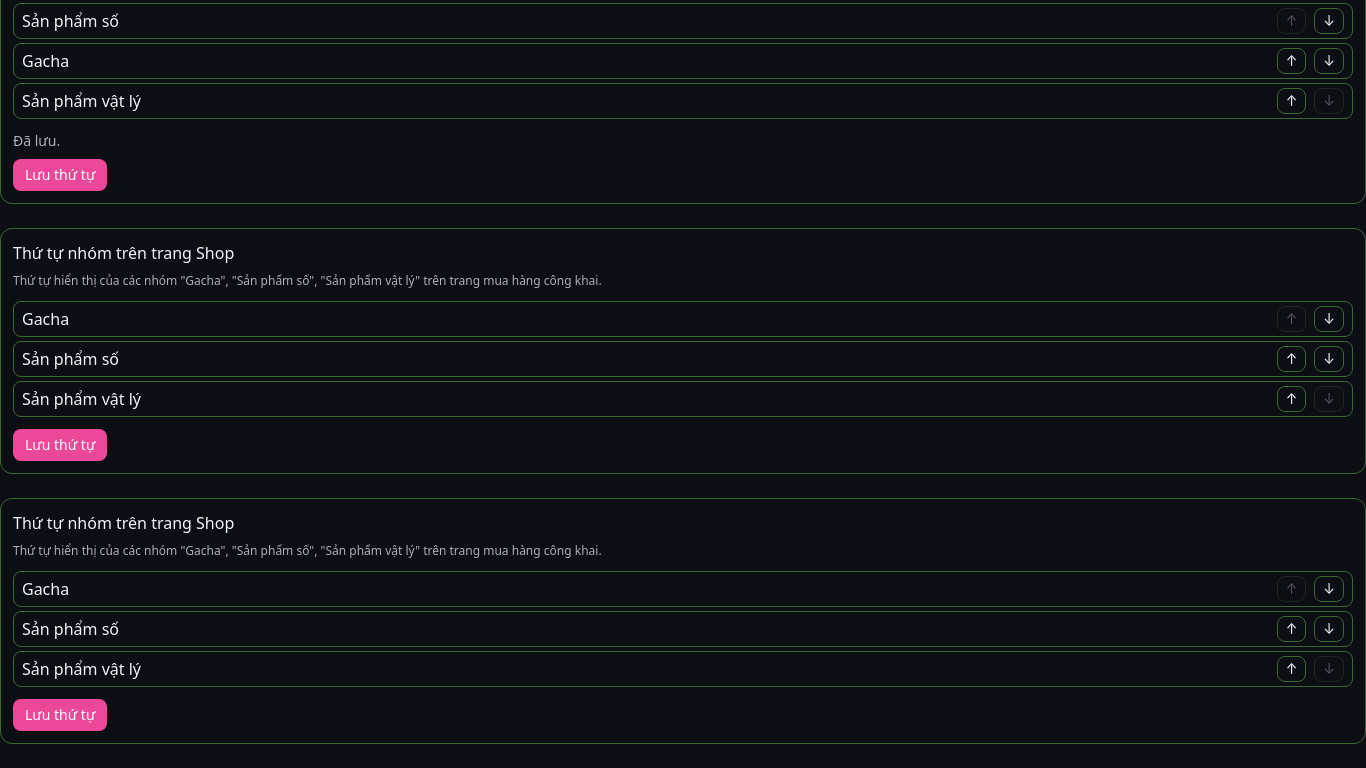
Test case: AdminShopGroupOrder › shows an error message when saving fails
The width and height of the screenshot is (1366, 768).
(page scrolled)
Click the 3rd button "Lưu thứ tự" at coordinates (60, 715), box [13,699,107,731]
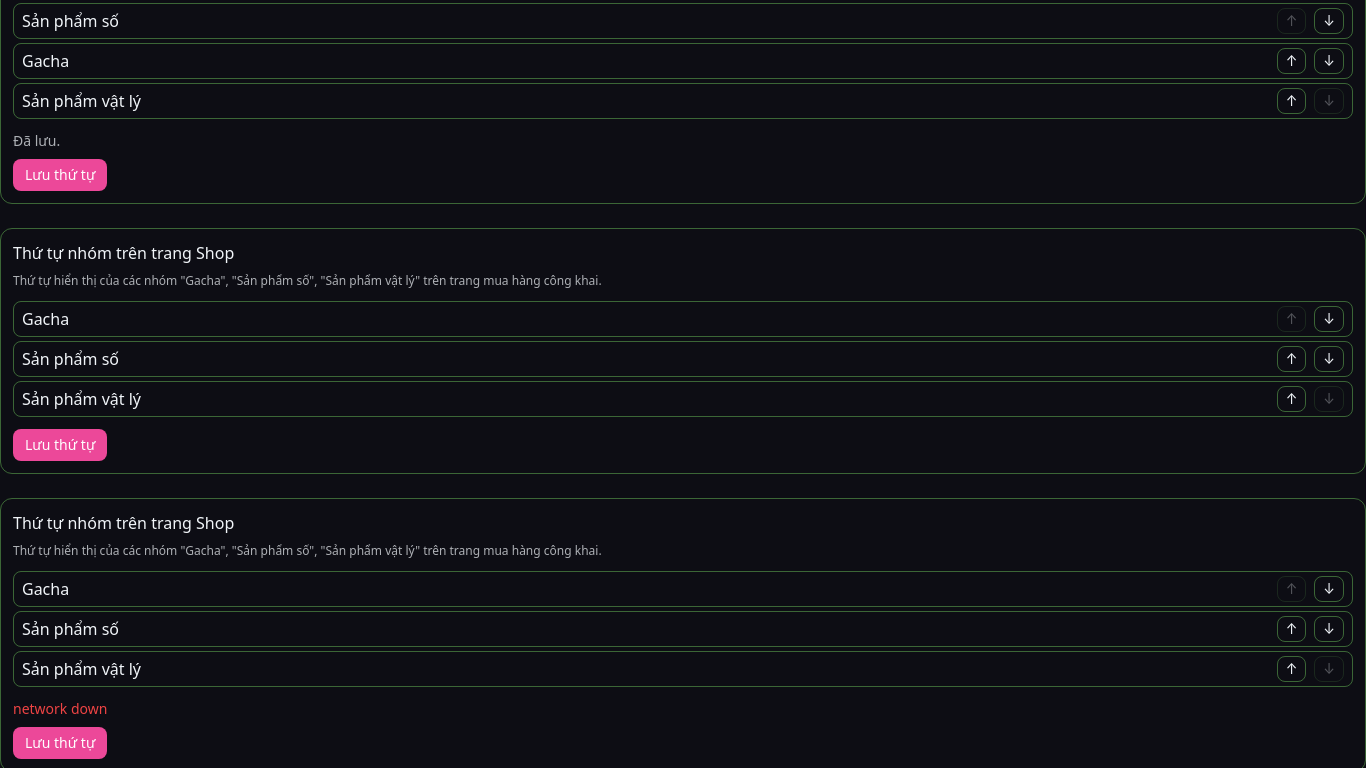
Expected: the text "network down" is shown, [13,699,107,718]
